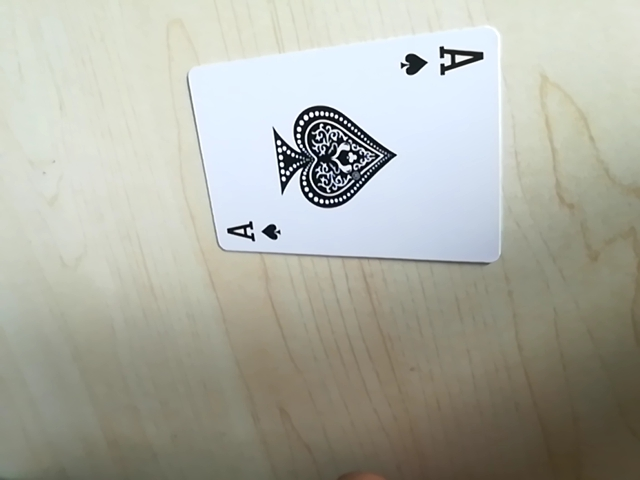ht a: (398, 37, 485, 88), (215, 217, 286, 252)
